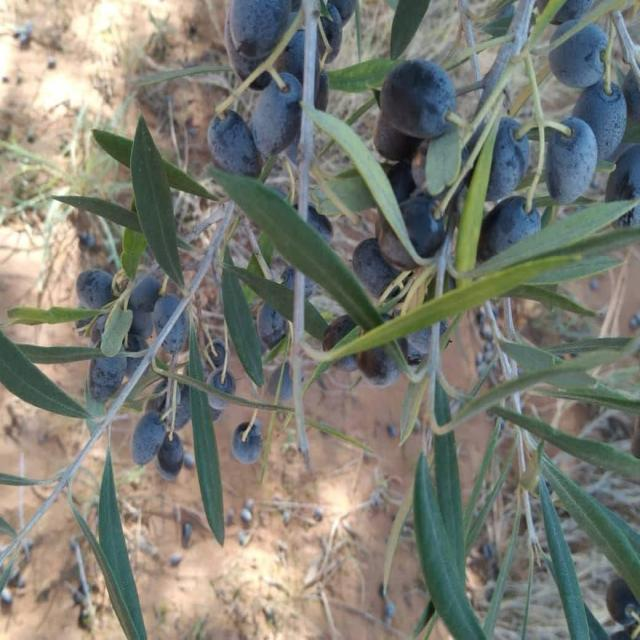Healthy: (129, 115, 183, 289), (380, 60, 455, 141), (572, 78, 627, 161), (545, 117, 597, 204), (252, 72, 302, 158), (207, 110, 262, 176), (131, 410, 166, 466), (232, 419, 262, 464), (158, 432, 185, 480)
